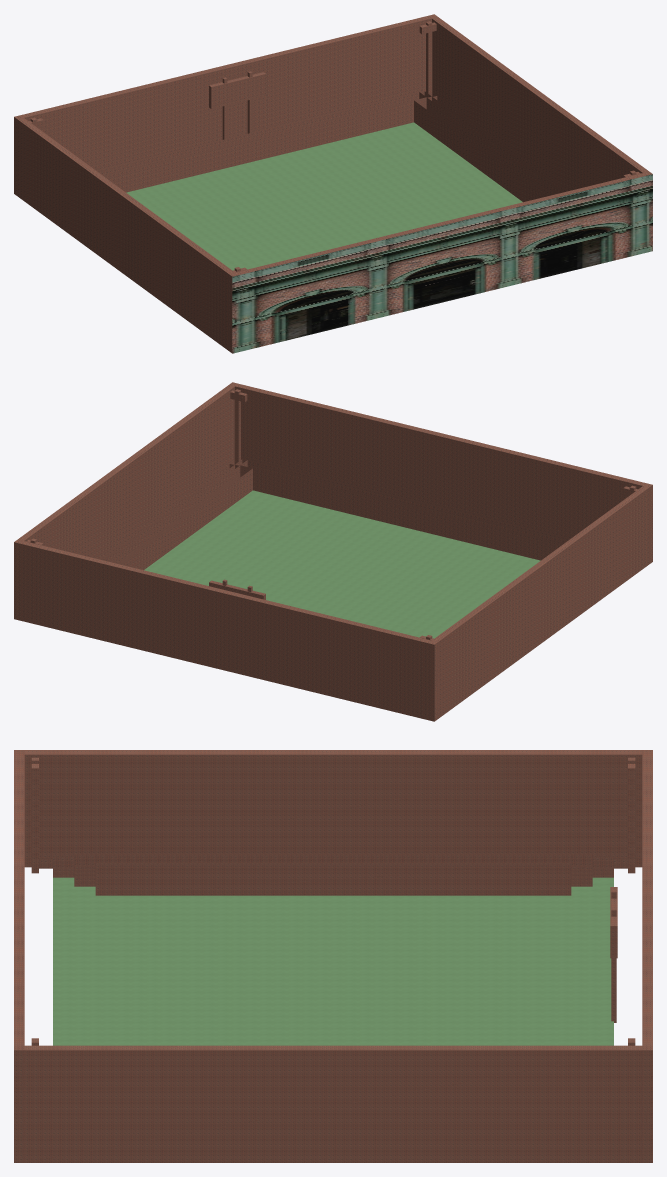
File: ironport-ballpark_lod0.gltf
The picture shows the model from 3 angles, top to bottom: view 1: azimuth 30°, elevation 25°; view 2: azimuth 150°, elevation 25°; view 3: azimuth 270°, elevation 25°; orthographic projection. The views are drawn at different scales.
Parts seen in each view (by area): view 1: ironport-ballpark_walls, ironport-ballpark_front, ironport-ballpark_field, ironport-ballpark_bowl, ironport-ballpark_wall_front, ironport-ballpark__scoreboard, ironport-ballpark__light_towers; view 2: ironport-ballpark_walls, ironport-ballpark_field, ironport-ballpark_wall_front, ironport-ballpark_bowl, ironport-ballpark__light_towers; view 3: ironport-ballpark_walls, ironport-ballpark_field, ironport-ballpark_bowl, ironport-ballpark_wall_front, ironport-ballpark__light_towers, ironport-ballpark__scoreboard.
Boxes of the visible parts, x1,y1,x2,y2 form: ironport-ballpark_walls: (14, 14, 648, 350); ironport-ballpark_front: (232, 174, 652, 353); ironport-ballpark_field: (126, 122, 522, 270); ironport-ballpark_bowl: (96, 91, 567, 202); ironport-ballpark_wall_front: (229, 171, 652, 353); ironport-ballpark__scoreboard: (209, 71, 265, 139); ironport-ballpark__light_towers: (29, 21, 640, 272); ironport-ballpark_walls: (14, 385, 649, 721); ironport-ballpark_field: (144, 490, 540, 638); ironport-ballpark_wall_front: (229, 382, 652, 563); ironport-ballpark_bowl: (99, 459, 570, 570); ironport-ballpark__light_towers: (26, 389, 637, 640); ironport-ballpark_walls: (24, 750, 652, 1162); ironport-ballpark_field: (53, 877, 613, 1045); ironport-ballpark_bowl: (39, 854, 627, 895); ironport-ballpark_wall_front: (14, 750, 24, 1162); ironport-ballpark__light_towers: (31, 757, 635, 1045); ironport-ballpark__scoreboard: (610, 887, 617, 1022).
Bounding box in the file's own units: 200 × 35 × 180.
